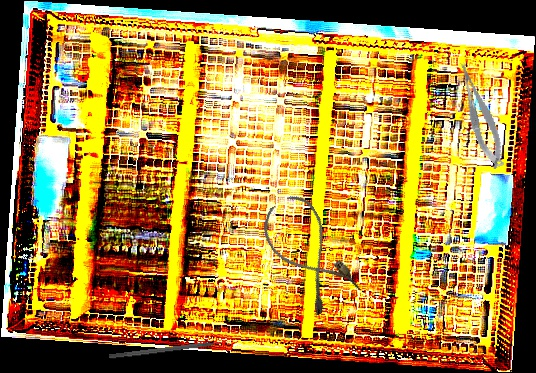Cannula: (253, 189, 363, 318)
Hook Surgical: (109, 339, 229, 361)
Micro Scissor: (455, 58, 508, 172)
